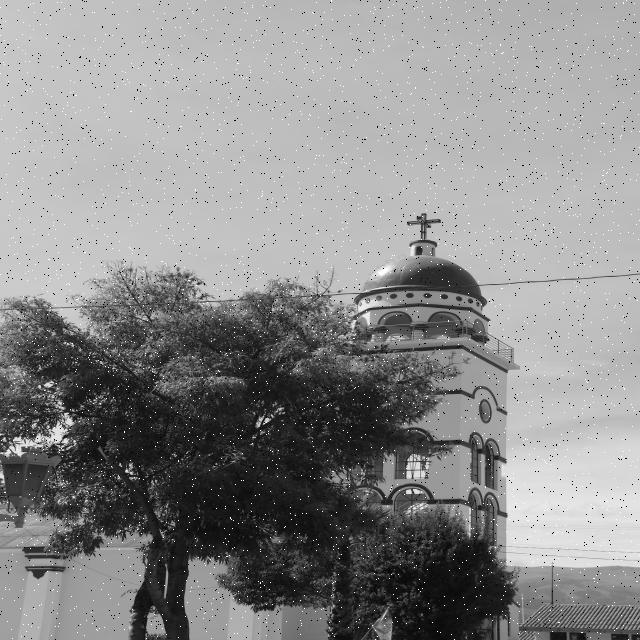CAMPANARIO: (326, 349, 539, 576)
CUPULA: (326, 202, 526, 348)
TORRES: (291, 173, 558, 640)
colonial-architecture-: (0, 94, 591, 640)
